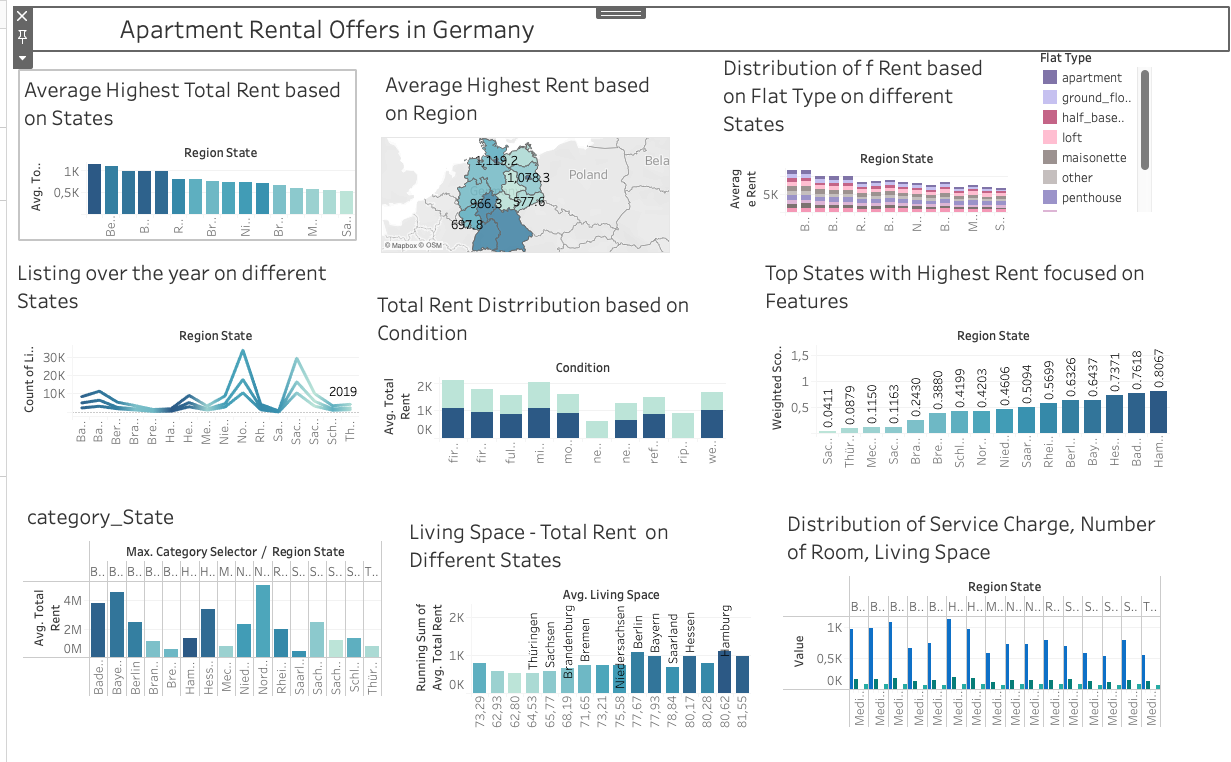

The dashboard page shown, as its layout file describes it:
{"tool":"tableau","page":{"name":"Dashboard 1","canvas":[1000,1000],"units":"permille","ordinal":0},"visuals":[{"type":"title","box":[8.1,12.2,983.9,63.9]},{"type":"worksheet","title":"Flat_ type_state","mark":"Automatic","rows":["Calculation_58617206025359363"],"cols":["region_state"],"box":[579.3,63.8,235.2,240.9]},{"type":"legend","title":"Flat_ type_state","param":"[federated.0zxocg41gfrgym1gsi53b0zezxby].[none:flat_type:nk]","box":[840.5,63.8,92.8,212.2]},{"type":"worksheet","title":"Average_highest_rent_state","mark":"Multipolygon","box":[304.3,85.9,235.2,243.5]},{"type":"worksheet","title":"Average_rent_State1","mark":"Automatic","rows":["total_rent"],"cols":["region_state"],"box":[10.6,92.5,272.6,218.8]},{"type":"worksheet","title":"Listing_over_year_State","mark":"Line","rows":["listing_date"],"cols":["region_state"],"box":[4.9,330.7,281.5,251.3]},{"type":"worksheet","title":"top_state_rent_feature","mark":"Automatic","cols":["region_state"],"box":[613.5,330.7,332.8,281.2]},{"type":"worksheet","title":"Rent_apt_condition","mark":"Automatic","rows":["total_rent"],"cols":["condition"],"box":[297.8,372.4,287.2,234.4]},{"type":"worksheet","title":"category_State","mark":"Automatic","rows":["total_rent"],"cols":["Calculation_58617206039162887","region_state"],"box":[13,648.4,292.1,260.4]},{"type":"worksheet","title":"service_room_living_state","mark":"Automatic","cols":["region_state"],"box":[631.4,657.6,307.6,290.4]},{"type":"worksheet","title":"living_space_state_rent","mark":"Bar","rows":["total_rent"],"cols":["living_space"],"box":[323.8,668,281.5,282.6]}]}

Visuals, with their boxes on the dashboard's canvas, which has no fixed pixel size, in thousandths of its width and height (x1, y1, x2, y2). These are canvas units, not pixel positions in the 1231x762 screenshot, which may show the page scaled, cropped or inside an application window:
title: <bbox>8, 12, 992, 76</bbox>
"Flat_ type_state" worksheet: <bbox>579, 64, 814, 305</bbox>
"Flat_ type_state" legend: <bbox>840, 64, 933, 276</bbox>
"Average_highest_rent_state" worksheet (Multipolygon marks): <bbox>304, 86, 540, 329</bbox>
"Average_rent_State1" worksheet: <bbox>11, 92, 283, 311</bbox>
"Listing_over_year_State" worksheet (Line marks): <bbox>5, 331, 286, 582</bbox>
"top_state_rent_feature" worksheet: <bbox>614, 331, 946, 612</bbox>
"Rent_apt_condition" worksheet: <bbox>298, 372, 585, 607</bbox>
"category_State" worksheet: <bbox>13, 648, 305, 909</bbox>
"service_room_living_state" worksheet: <bbox>631, 658, 939, 948</bbox>
"living_space_state_rent" worksheet (Bar marks): <bbox>324, 668, 605, 951</bbox>
